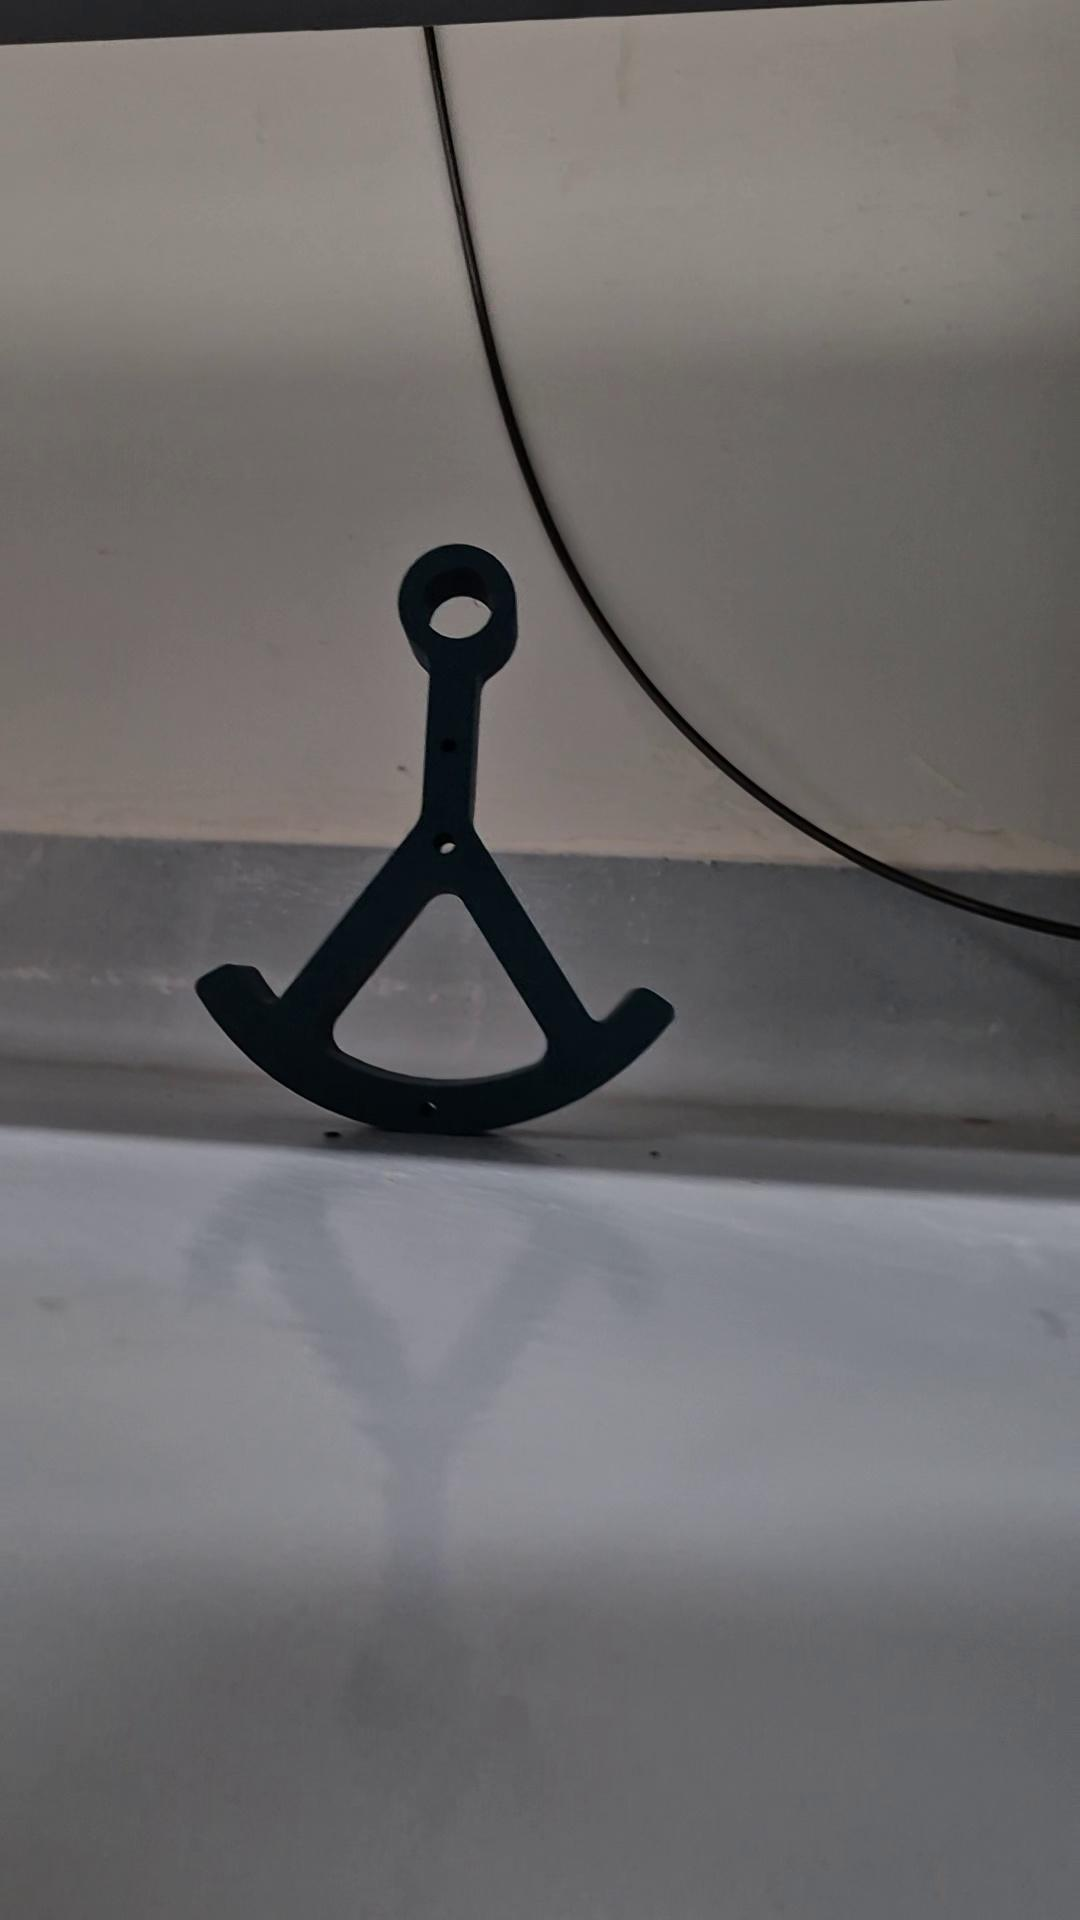Paddles: (193, 542, 676, 1137)
